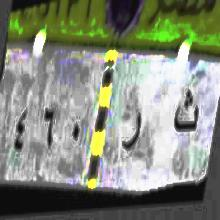0: (70, 118, 82, 151)
4: (11, 104, 28, 162)
6: (41, 100, 56, 152)
raa: (120, 106, 144, 160)
thaa: (170, 85, 199, 140)
